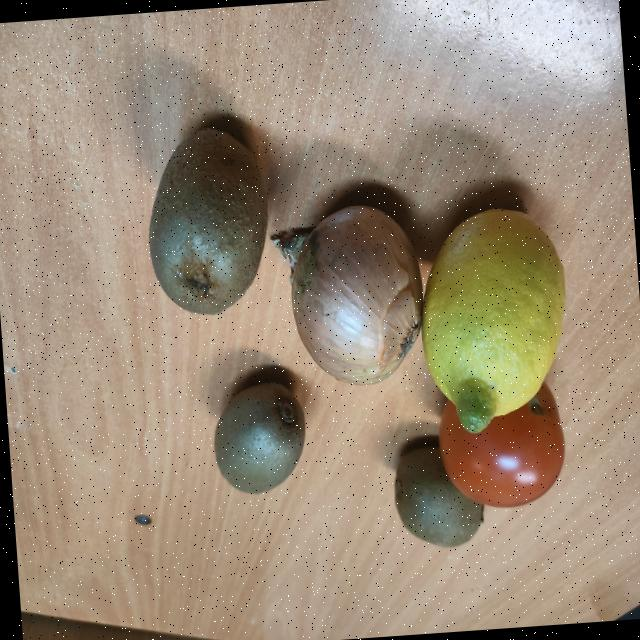kiwi: (147, 127, 267, 313), (213, 382, 304, 492), (393, 446, 482, 547)
lemon: (421, 207, 564, 431), (290, 205, 421, 384)
tomato: (437, 383, 563, 506)
